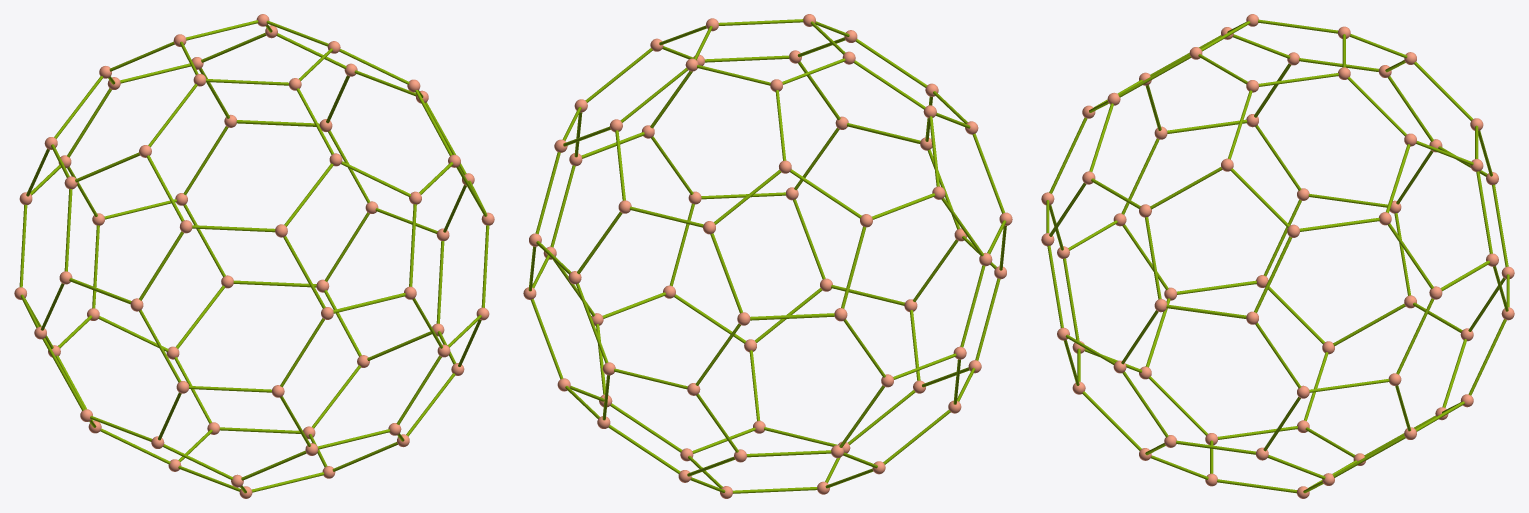
Rendered from truncated_icosahedronV.glb.
3 views of the same model, side by side, from view 1: azimuth 30°, elevation 25°; view 2: azimuth 150°, elevation 25°; view 3: azimuth 270°, elevation 25° (orthographic).
Size of the model in its own units: 8.23 by 7.9 by 8.11.
